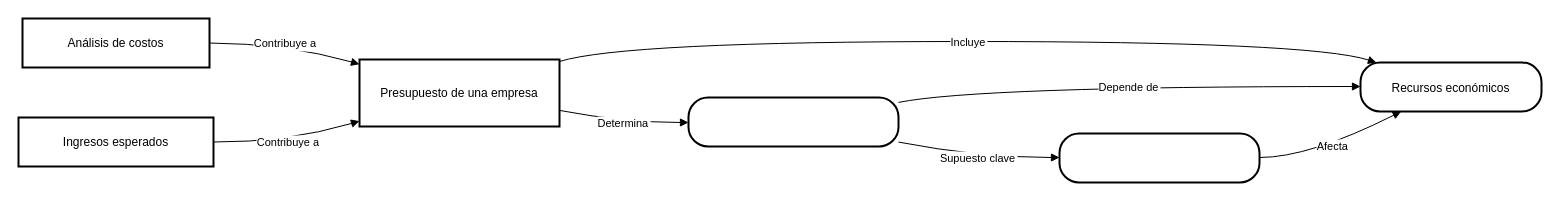
This 1559x200 diagram has some shape labels left out. Here are the shapes that lost their labels. From the top down, the centre of each, then its label:
At (x=793, y=121): "Equilibrio presupuestario".
At (x=1159, y=157): "Planificación financiera".
